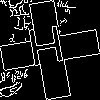H: (25, 25, 69, 76)
